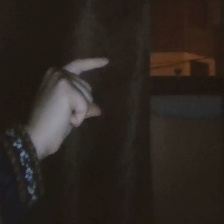G: (30, 52, 115, 161)
